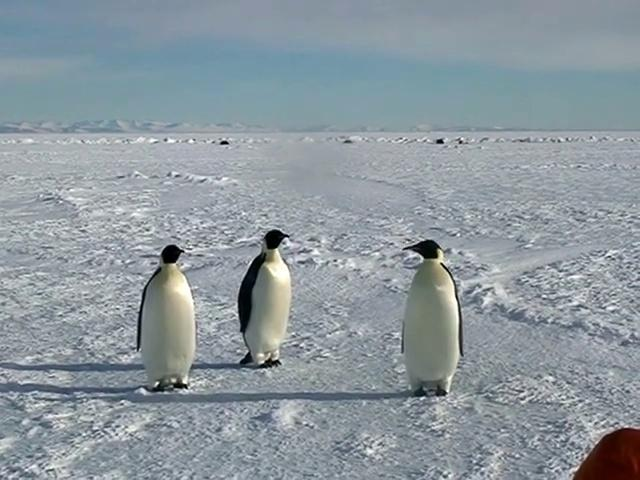animal: (402, 241, 464, 397)
